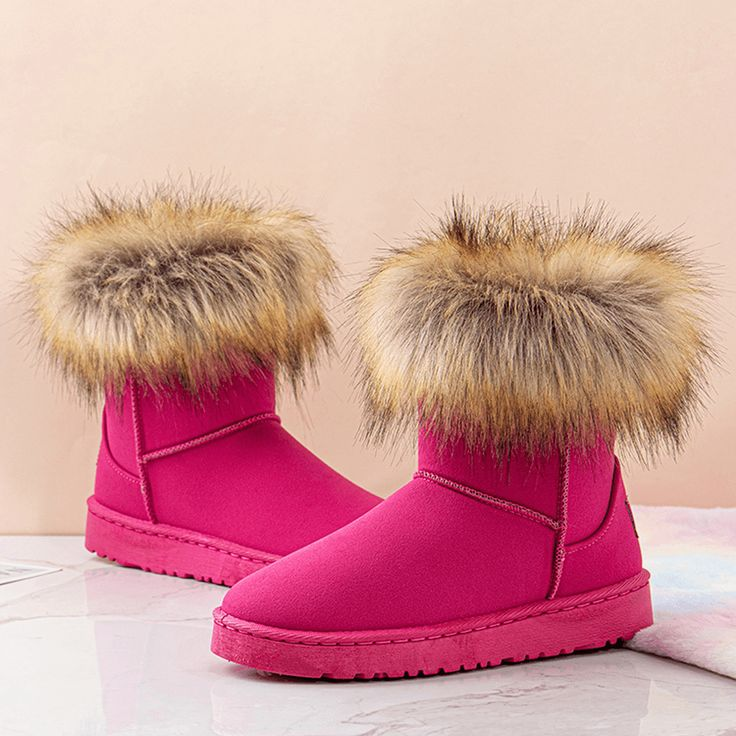gamuza: (85, 364, 645, 632)
